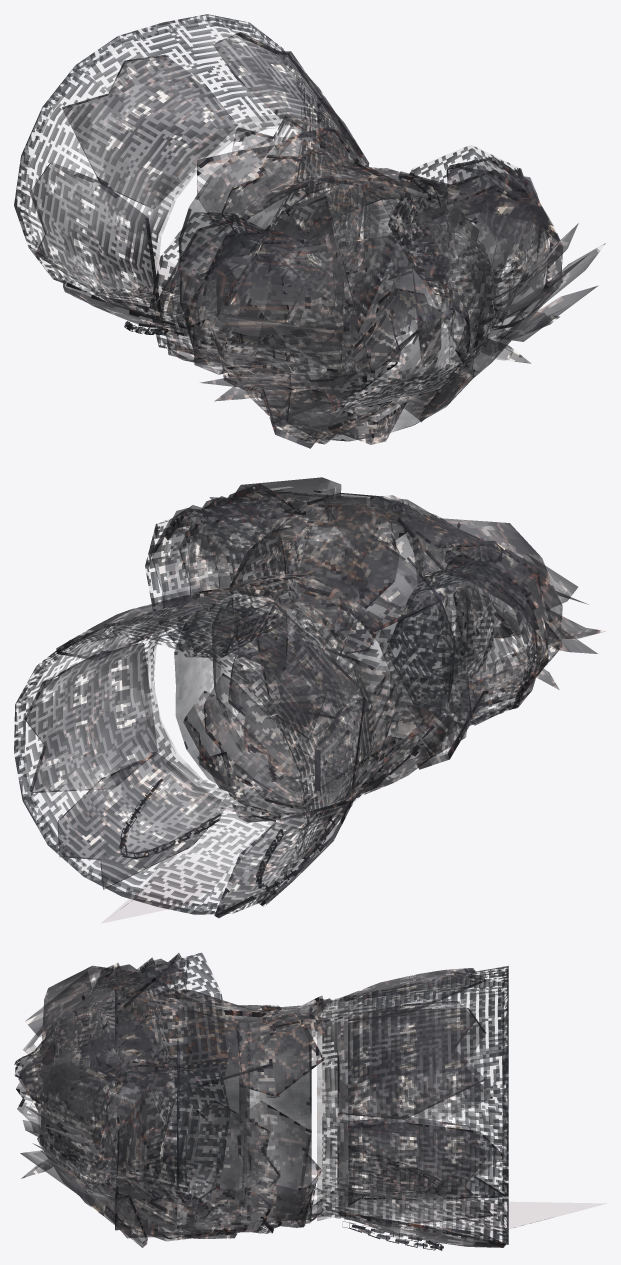
File: cuirasse_obsidienne_enchante.glb
3 renders of one model, top to bottom at view 1: azimuth 30°, elevation 25°; view 2: azimuth 150°, elevation 25°; view 3: azimuth 270°, elevation 25°, orthographic. The views are drawn at different scales.
Visible parts, largest first — view 1: cuirasse_obsidienne.001; view 2: cuirasse_obsidienne.001; view 3: cuirasse_obsidienne.001.
Part boxes in pixels (x1,y1,x2,y2): cuirasse_obsidienne.001: [14, 14, 605, 448]; cuirasse_obsidienne.001: [14, 477, 605, 920]; cuirasse_obsidienne.001: [14, 952, 553, 1250].
Bounding box in the file's own units: 0.8694 × 0.5389 × 1.14.
Materials: 6 (6 with a texture image).
